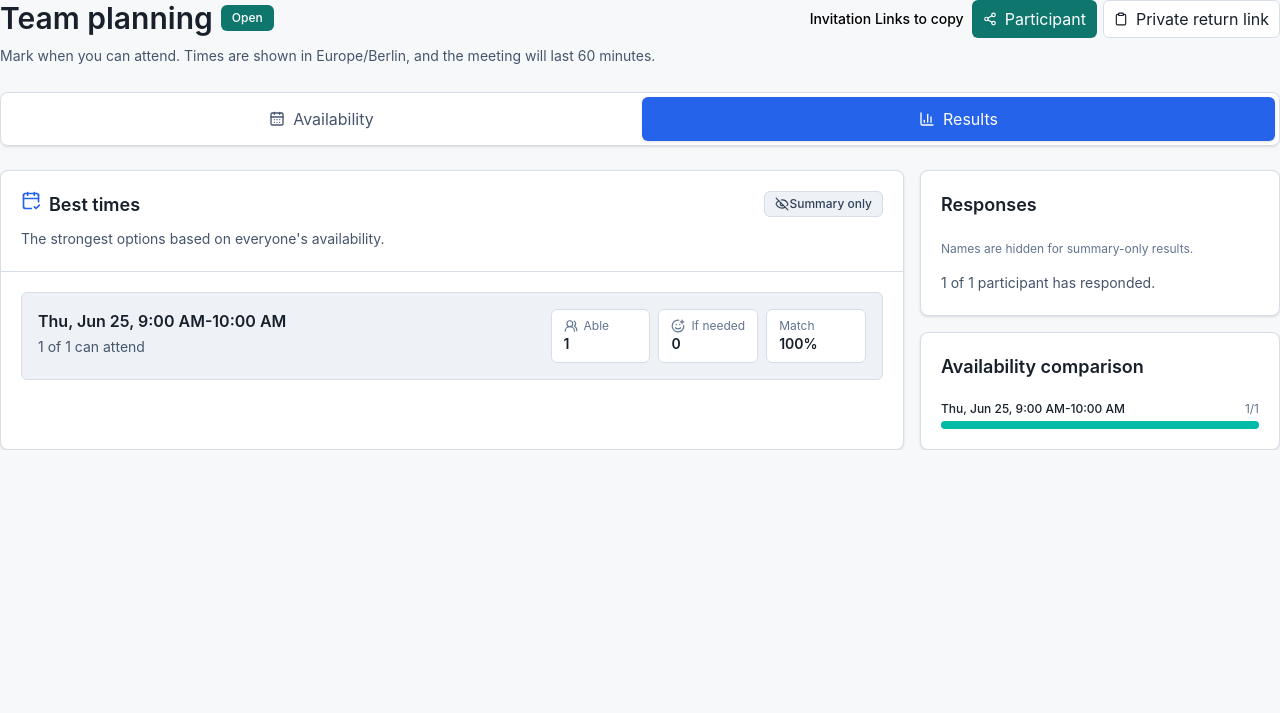
Test: ParticipantAvailabilityPainter › switches to results after a participant saves their vote
Click the tab "Availability" at (322, 119), box [5,97,638,141]
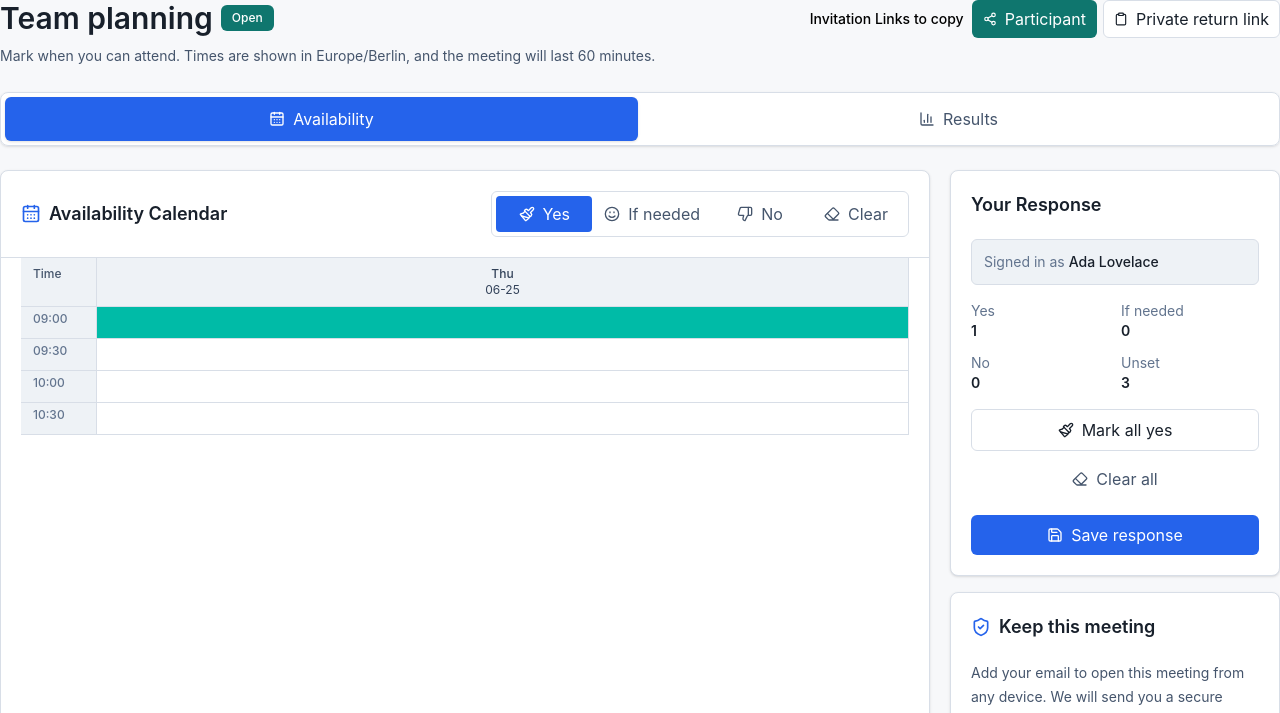
Click the button "No" at (760, 214), box [712,196,808,232]
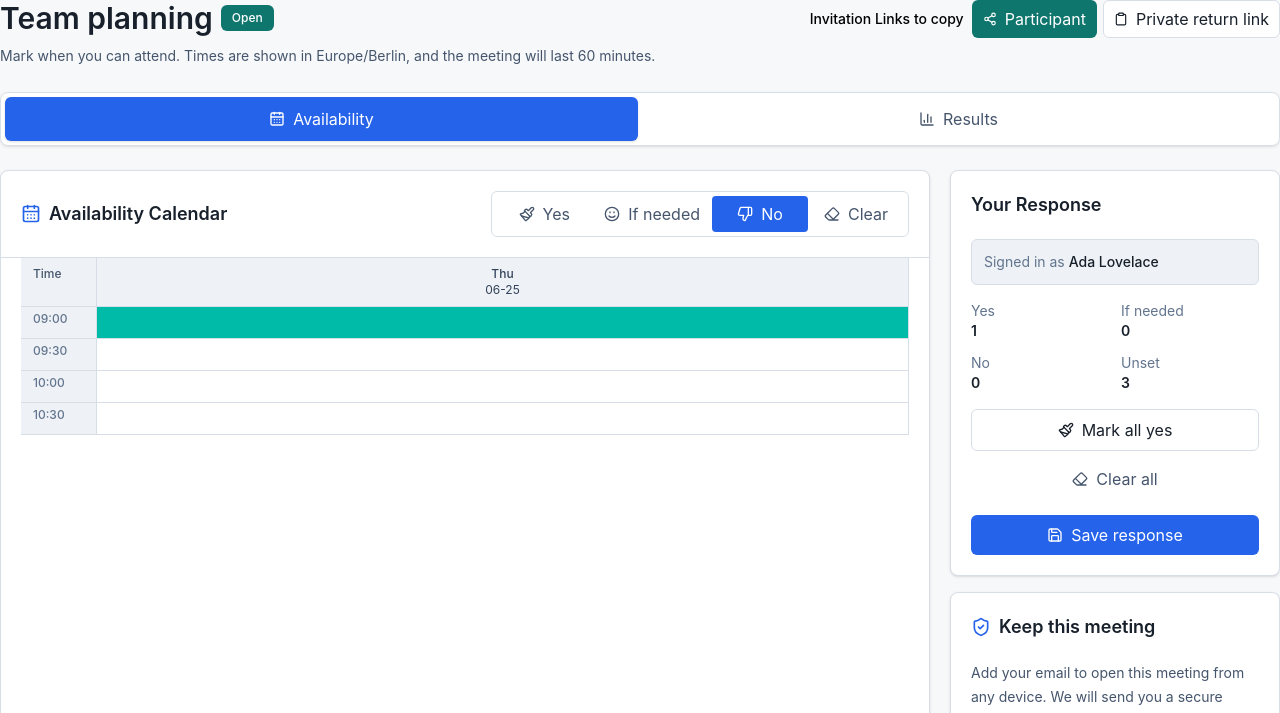
Press Enter in the cell named "thu jun 25 09:00 yes", box [97,307,909,339]
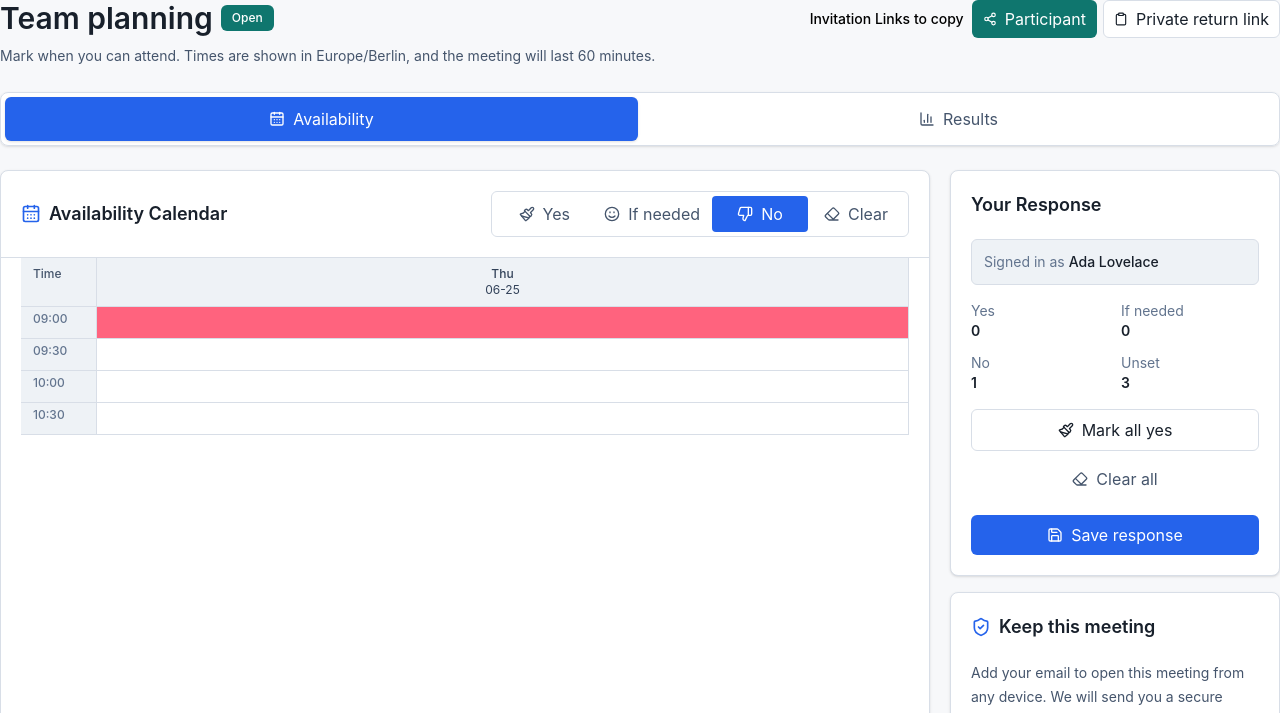
Click the button "Save response" at (1115, 535), box [971,515,1259,555]
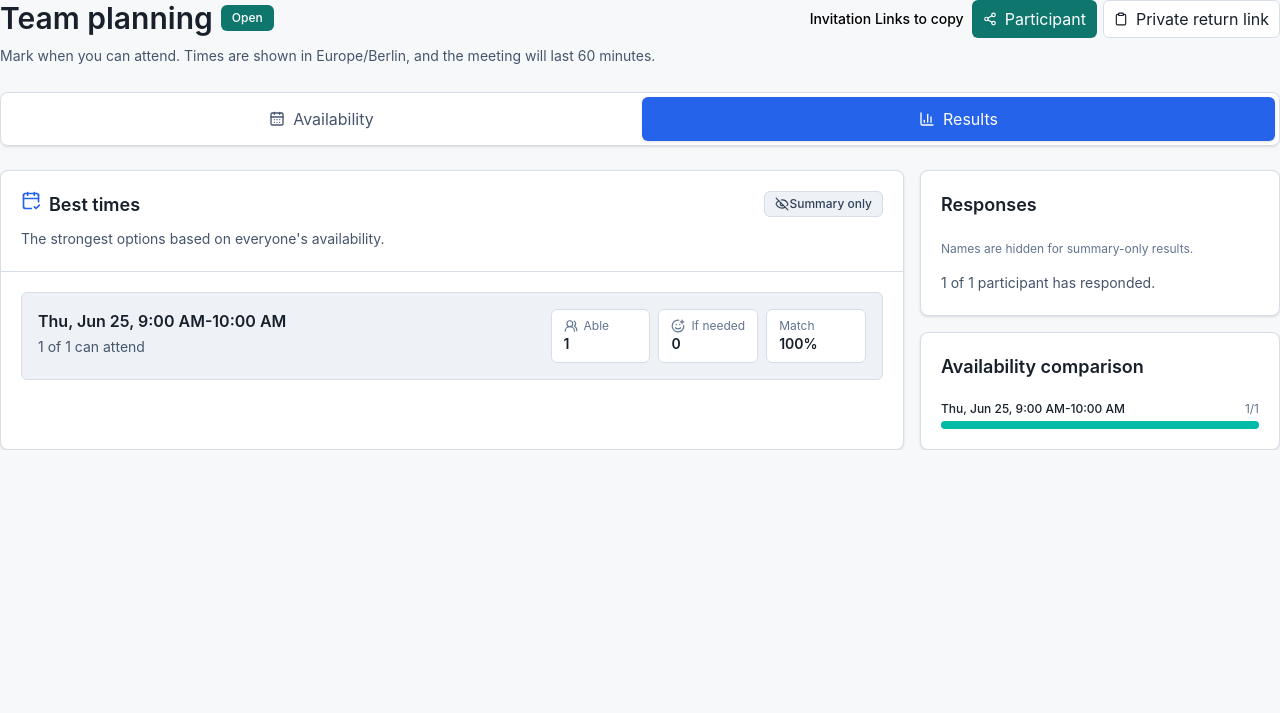
Now the heading "Best times" is shown, box [21,191,140,215]
